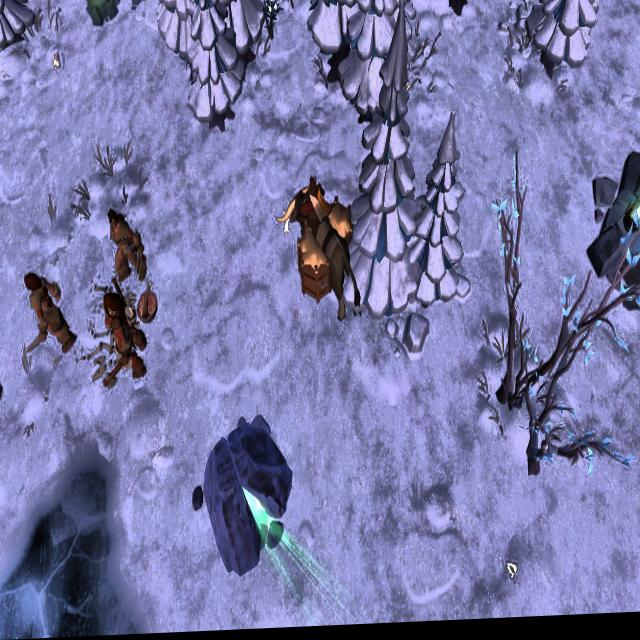enemy_factionKeeper: (102, 283, 150, 387), (22, 271, 82, 354), (108, 202, 146, 280)
fiber_t4: (262, 0, 280, 43)
rock_t3: (80, 0, 121, 33)
